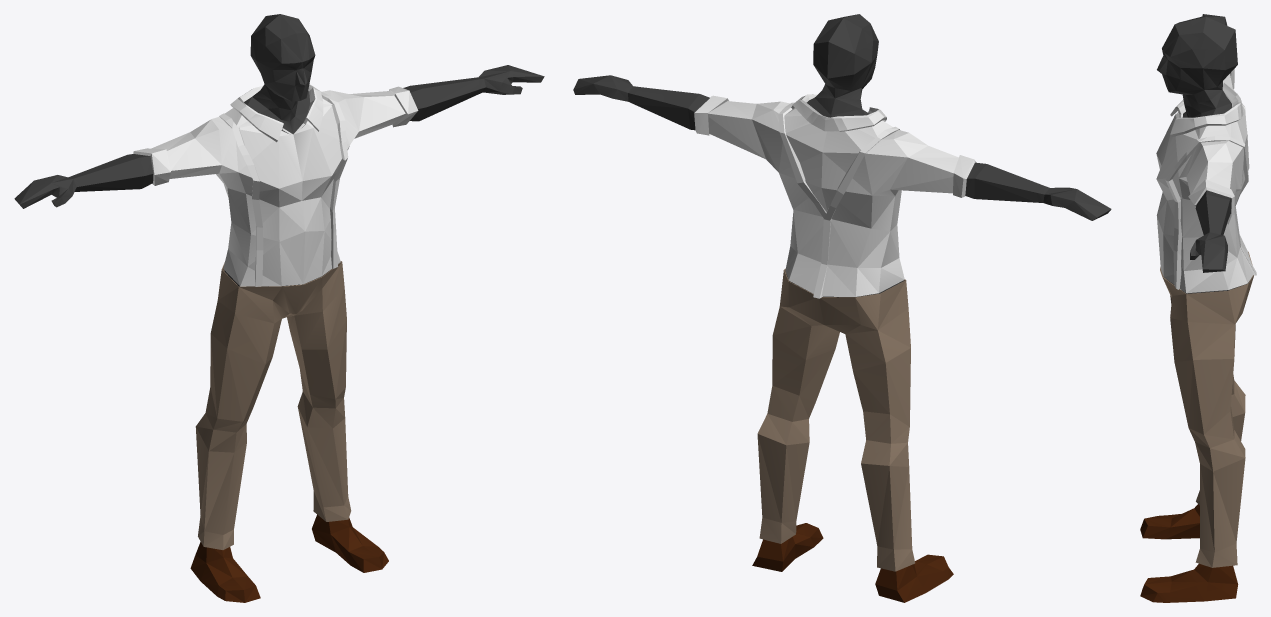
Rendered from LoftSuspenders.fbx.
3 renders of one model, left to right at view 1: azimuth 30°, elevation 25°; view 2: azimuth 150°, elevation 25°; view 3: azimuth 270°, elevation 25°, orthographic.
Parts seen in each view (by area): view 1: Pants, Shirt, Dude, Shoes, Cube, Cube.001; view 2: Pants, Shirt, Dude, Shoes, Cube.001, Cube; view 3: Pants, Shirt, Dude, Shoes, Cube.001, Cube.
Boxes of the visible parts, box(x1,y1,x2,y2) form: Pants: box(195, 261, 351, 549); Shirt: box(133, 84, 418, 286); Dude: box(14, 14, 544, 286); Shoes: box(190, 514, 388, 602); Cube: box(219, 113, 263, 286); Cube.001: box(321, 91, 348, 269); Pants: box(757, 268, 915, 571); Shirt: box(694, 94, 976, 296); Dude: box(573, 14, 1111, 297); Shoes: box(752, 523, 953, 602); Cube.001: box(778, 102, 831, 298); Cube: box(820, 126, 899, 293); Pants: box(1160, 251, 1253, 567); Shirt: box(1156, 69, 1253, 293); Dude: box(1157, 14, 1249, 293); Shoes: box(1140, 504, 1238, 602); Cube.001: box(1165, 136, 1256, 289); Cube: box(1234, 103, 1256, 275).
Bounding box in the file's own units: 175 × 175 × 33.78.
